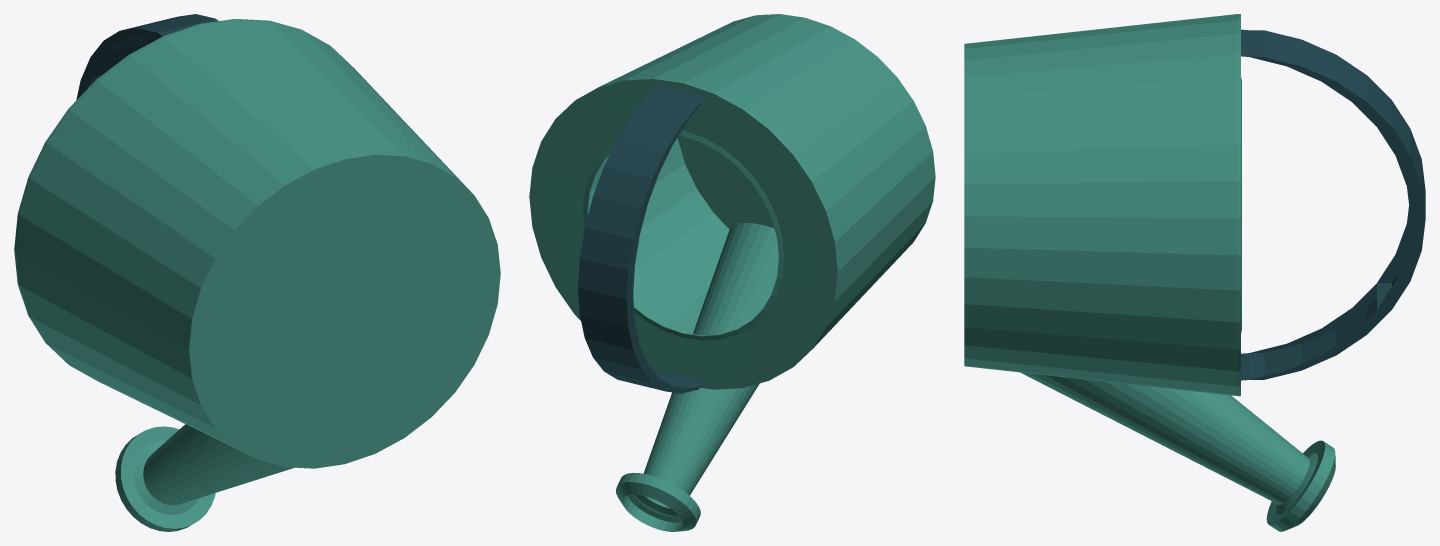
Rendered from Regadera.fbx.
3 views of the same model, side by side, from view 1: azimuth 30°, elevation 25°; view 2: azimuth 150°, elevation 25°; view 3: azimuth 270°, elevation 25° (orthographic). The views are drawn at different scales.
Parts seen in each view (by area): view 1: Regadera; view 2: Regadera; view 3: Regadera.
Boxes of the visible parts, x1,y1,x2,y2 form: Regadera: (14,14,500,531); Regadera: (529,14,935,531); Regadera: (964,14,1425,531).
Bounding box in the file's own units: 85.79 × 115 × 97.85.
1 material, 1 textured.
